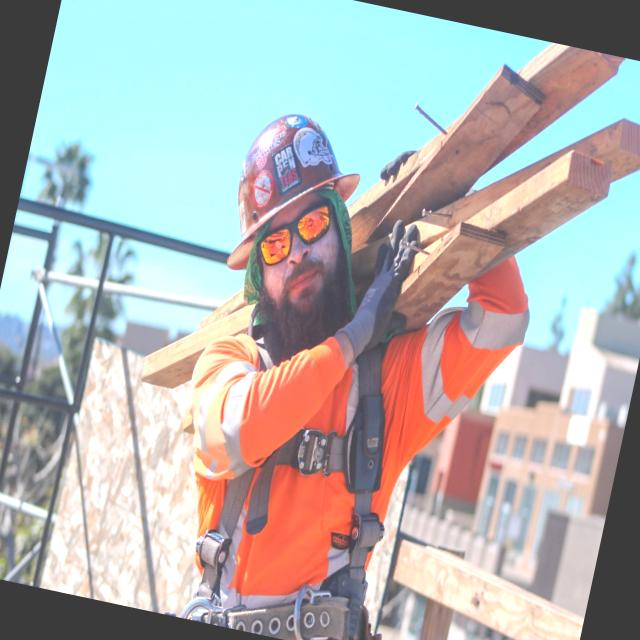goggles: (248, 183, 339, 278)
helmet: (218, 104, 372, 295)
vest: (141, 180, 547, 640)
